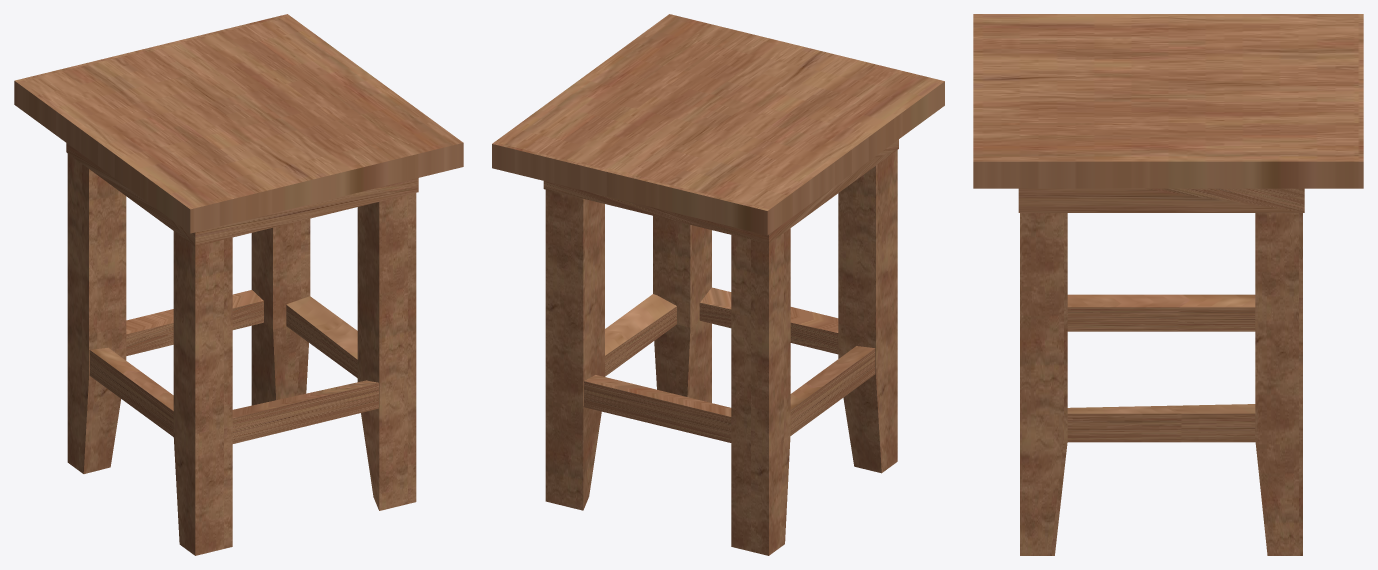
The model's file is табурет.glb.
3 views of the same model, side by side, from view 1: azimuth 30°, elevation 25°; view 2: azimuth 150°, elevation 25°; view 3: azimuth 270°, elevation 25° (orthographic). The views are drawn at different scales.
Visible parts, largest first — view 1: Cube.005; view 2: Cube.005; view 3: Cube.005.
Boxes of the visible parts, <box> form: Cube.005: <box>14,14,463,555</box>; Cube.005: <box>492,14,944,555</box>; Cube.005: <box>973,14,1363,555</box>.
Size of the model in its own units: 0.7336 by 0.9449 by 0.8183.
1 material, 1 textured.
